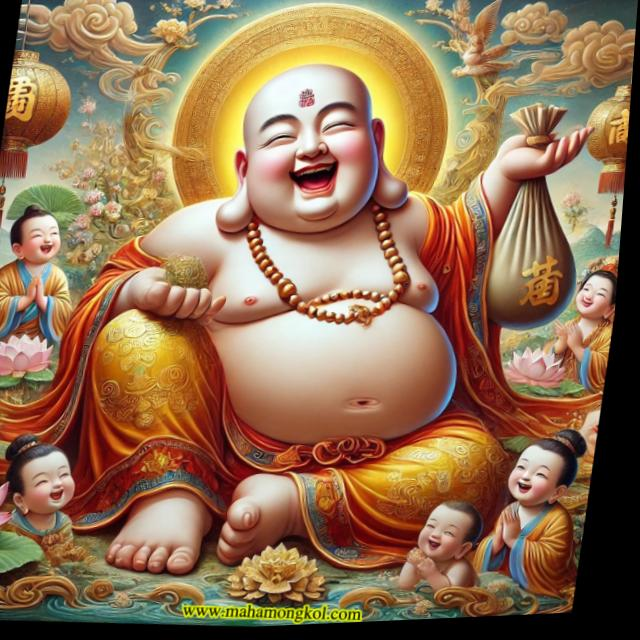Smiling Buddha: (74, 63, 530, 535)
